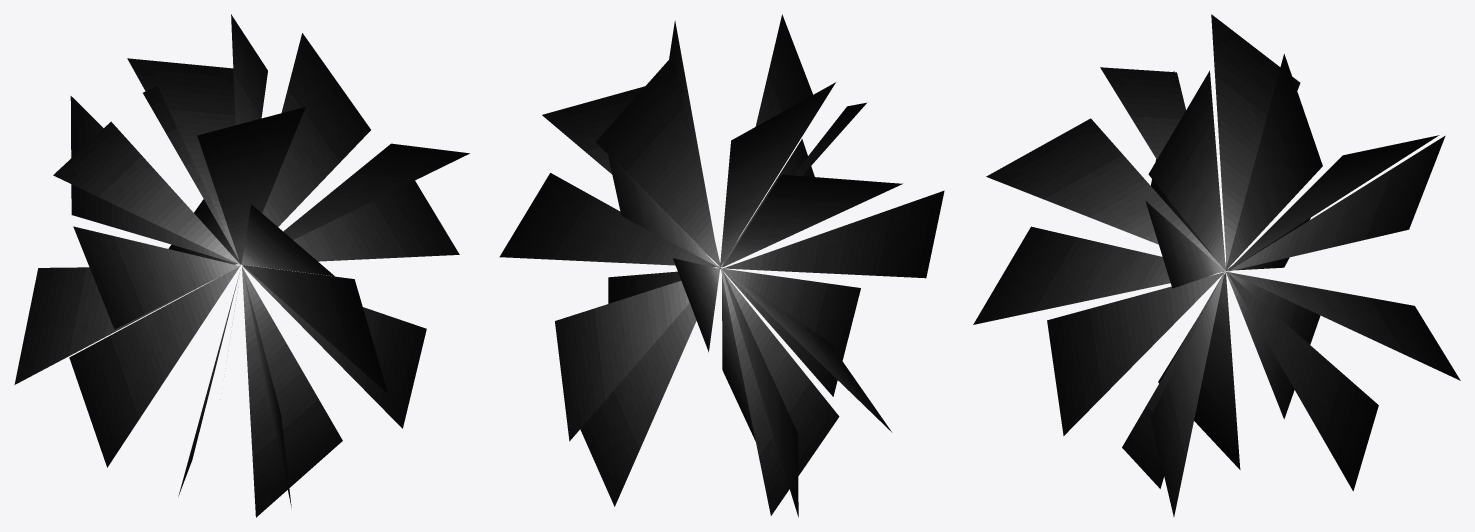
Rendered from yaoxiangguagn1.FBX.
3 renders of one model, left to right at view 1: azimuth 30°, elevation 25°; view 2: azimuth 150°, elevation 25°; view 3: azimuth 270°, elevation 25°, orthographic.
Visible parts, largest first — view 1: Plane001; view 2: Plane001; view 3: Plane001.
Part boxes in pixels (left/top/right/bottom): Plane001: left=14, top=14, right=469, bottom=517; Plane001: left=499, top=14, right=944, bottom=517; Plane001: left=973, top=14, right=1460, bottom=516.
Size of the model in its own units: 396 by 409 by 399.
1 material, 1 textured.
